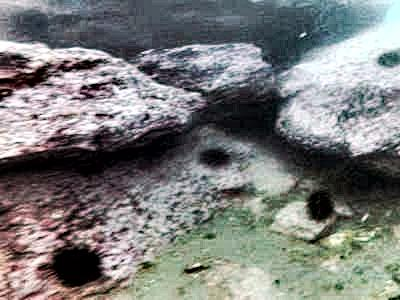urchin: (53, 241, 104, 287), (307, 188, 335, 219), (200, 146, 231, 170), (377, 47, 397, 64)
